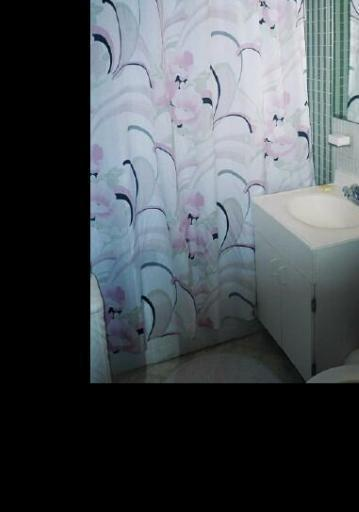Ducha: (96, 0, 309, 305)
Lavamanos: (286, 173, 359, 248)
